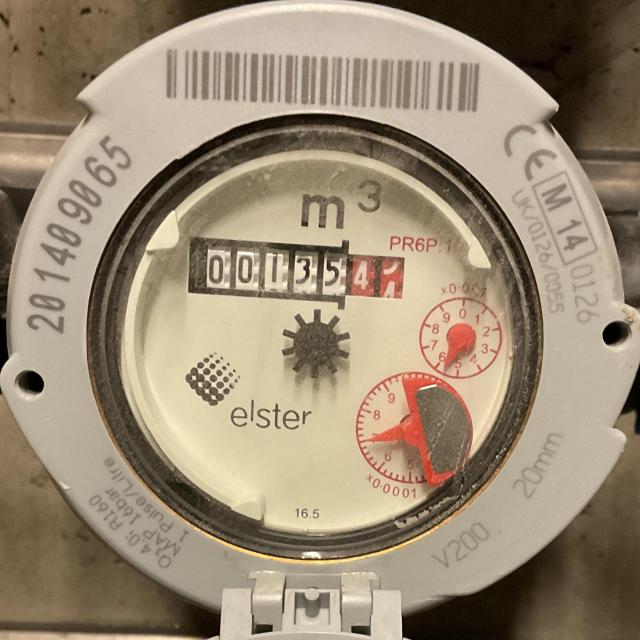gaz_meter: (86, 115, 544, 561)
indication: (196, 236, 406, 305)
